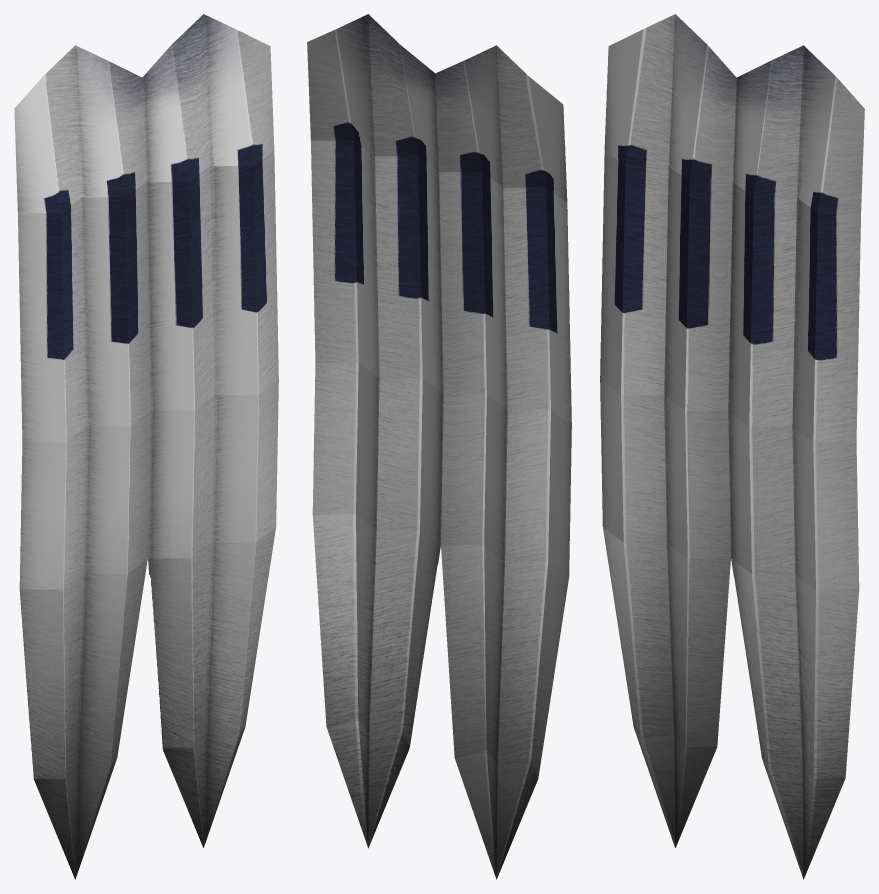
Rendered from smell_1.obj.
The picture shows the model from 3 angles, left to right: view 1: azimuth 30°, elevation 25°; view 2: azimuth 150°, elevation 25°; view 3: azimuth 330°, elevation 25°; orthographic projection.
Visible parts, largest first — view 1: nose; view 2: nose; view 3: nose.
Boxes of the visible parts, <box> form: nose: <box>14,14,278,879</box>; nose: <box>307,14,571,879</box>; nose: <box>600,14,864,879</box>.
Bounding box in the file's own units: 123 × 384 × 18.66.
1 material, 1 textured.
